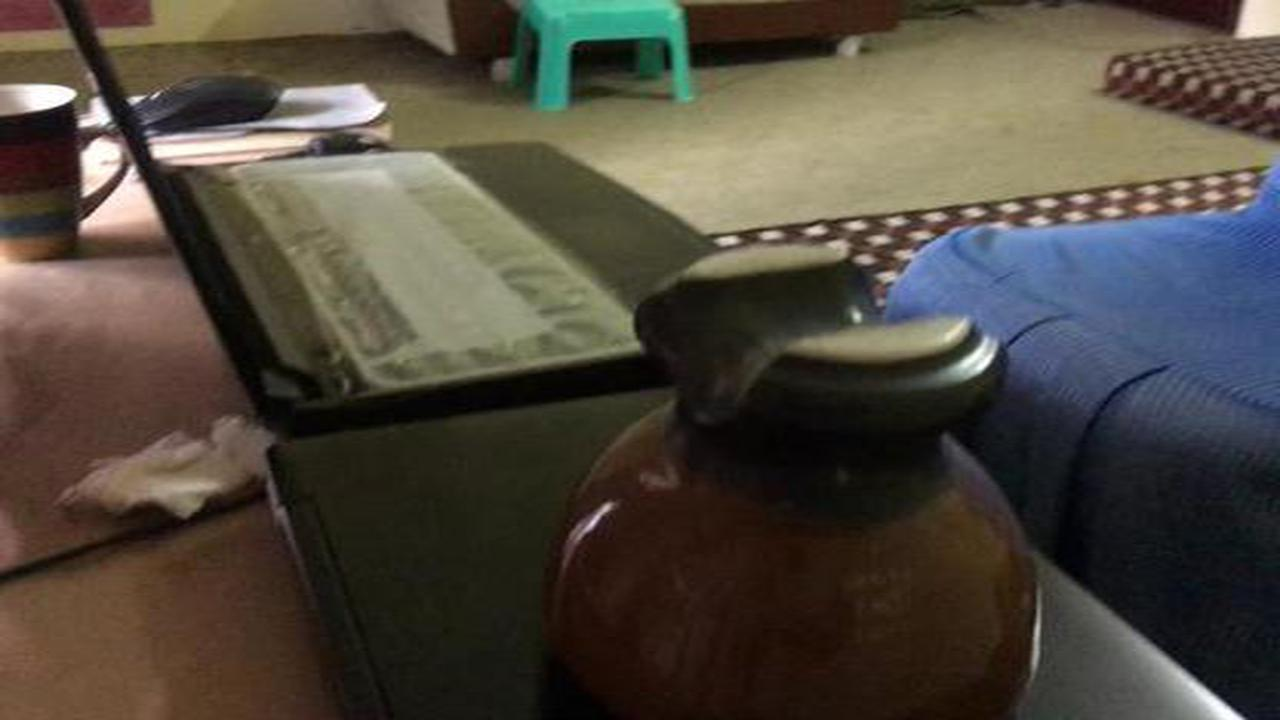insulator_pin: (530, 232, 1059, 717)
